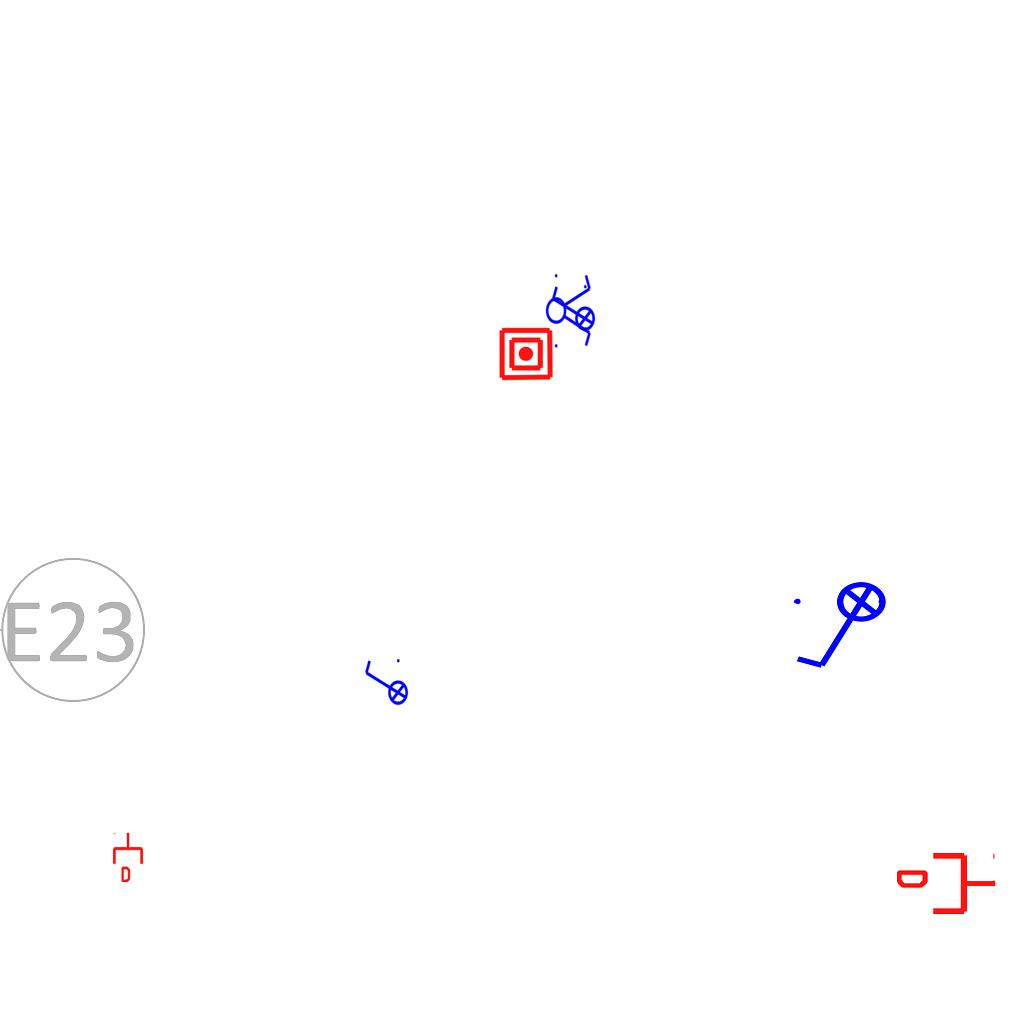Ausschalter_beleuchtet: (788, 580, 900, 676), (361, 656, 409, 712), (548, 282, 596, 338)
Datenanschluss_einfach: (897, 849, 997, 918), (111, 832, 145, 882)
NAM-Nichtautomatischer_Melder: (498, 326, 554, 382)
Serienschalter: (545, 268, 593, 352)
